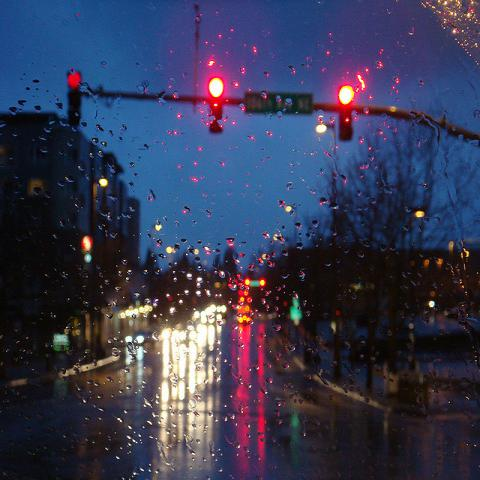car: (132, 330, 161, 347)
